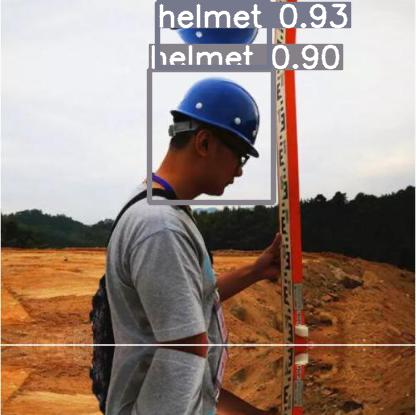helmet: (149, 69, 273, 202), (157, 2, 269, 67)
